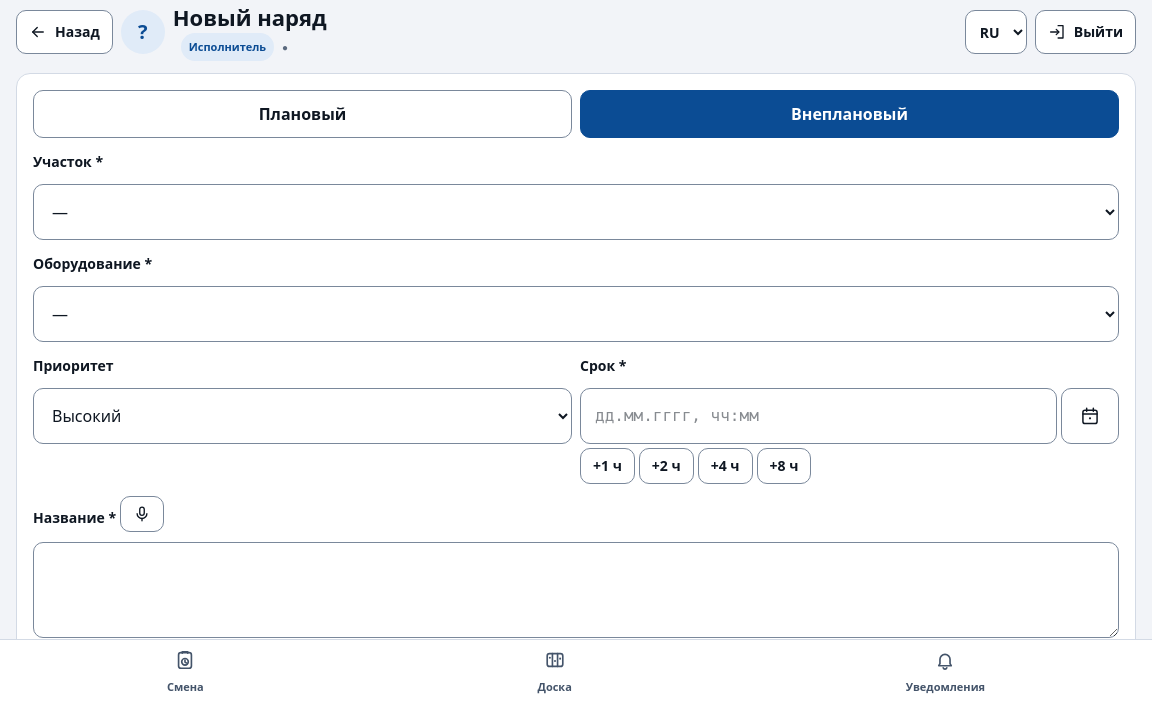
Test: MasterNew AI and photo › suggests assignee and applies it
Step 1. Select "Участок 1" in the dropdown labelled "Участок *" → (576, 212), box [33, 184, 1119, 240]
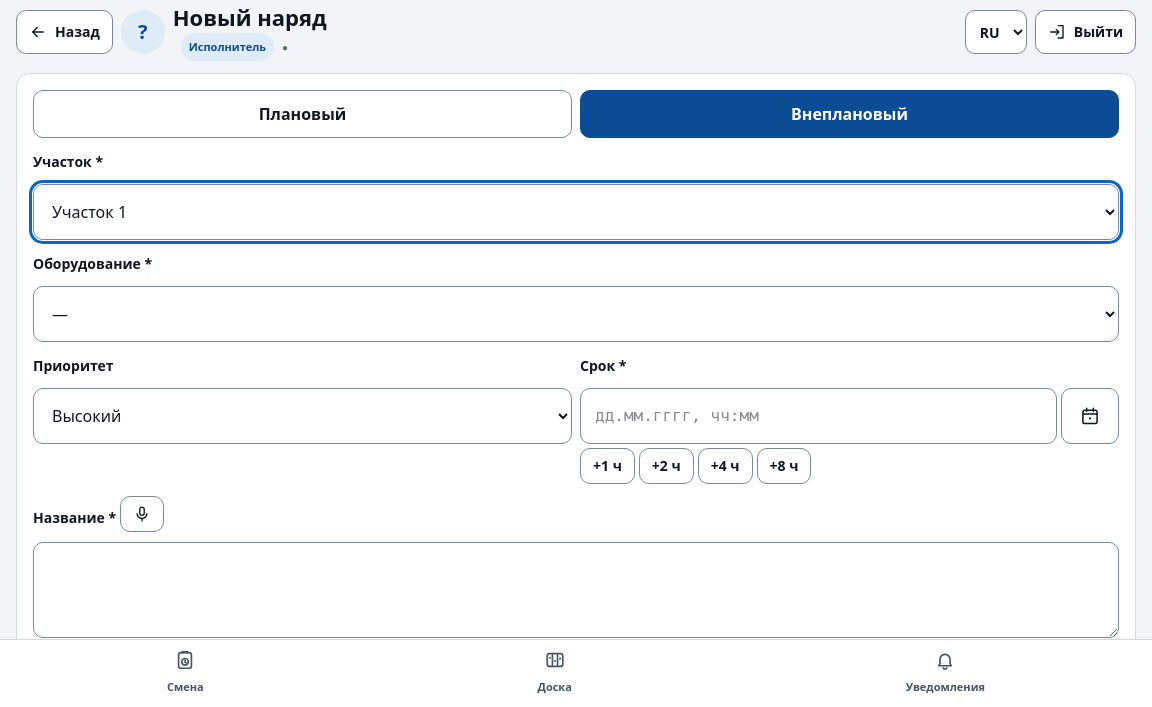
Step 2. Type "Течь масла" into the text box labelled "Название *" → (576, 590), box [33, 542, 1119, 638]
(page scrolled)
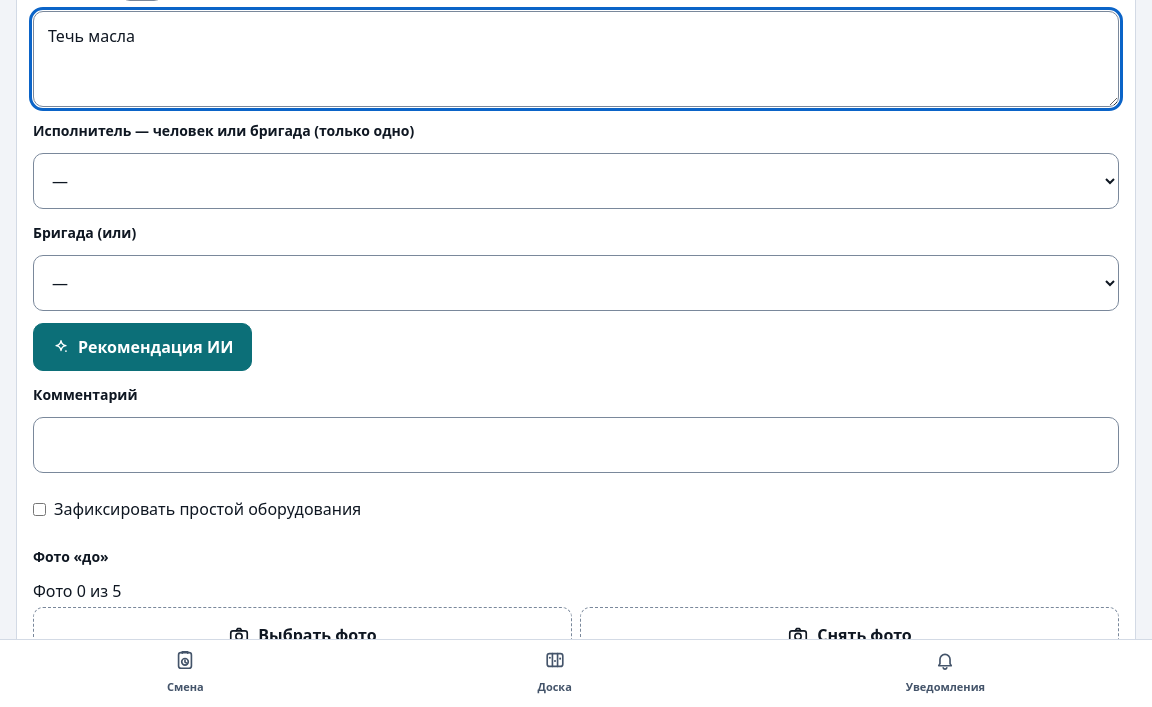
Expected: the button "Рекомендация ИИ" is enabled
Step 3. Click the button "Рекомендация ИИ" → (143, 347), box [33, 323, 252, 371]
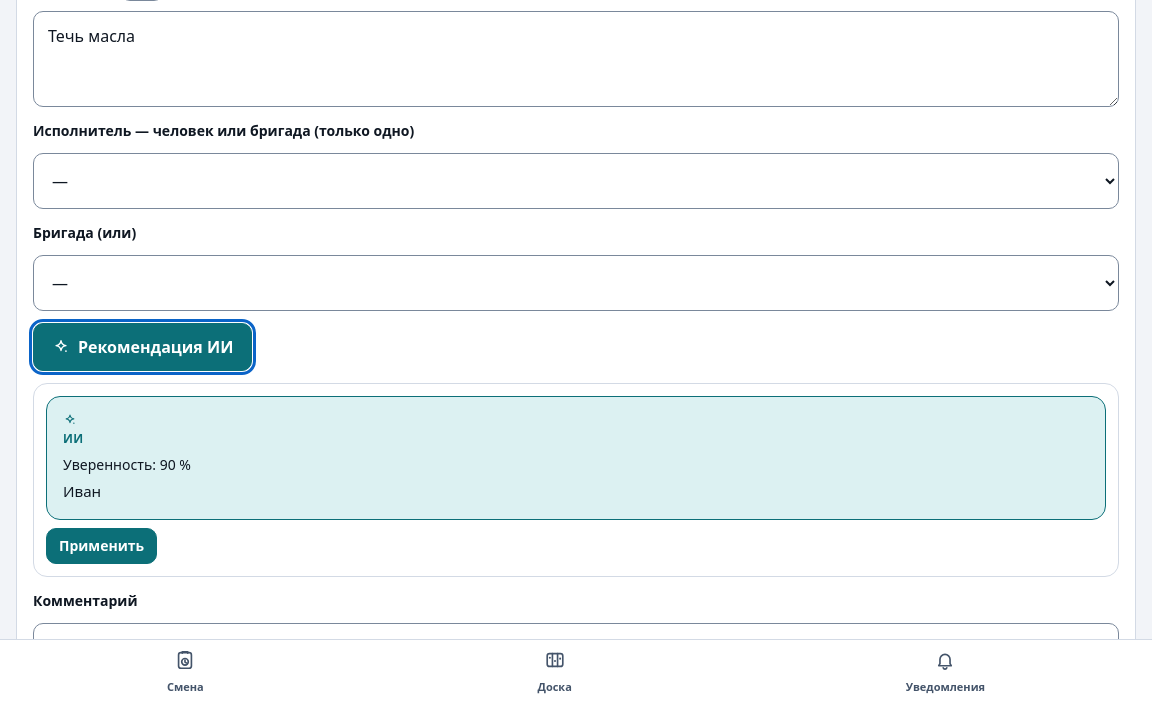
Step 4. Click the button "Применить" → (102, 546), box [46, 528, 157, 564]
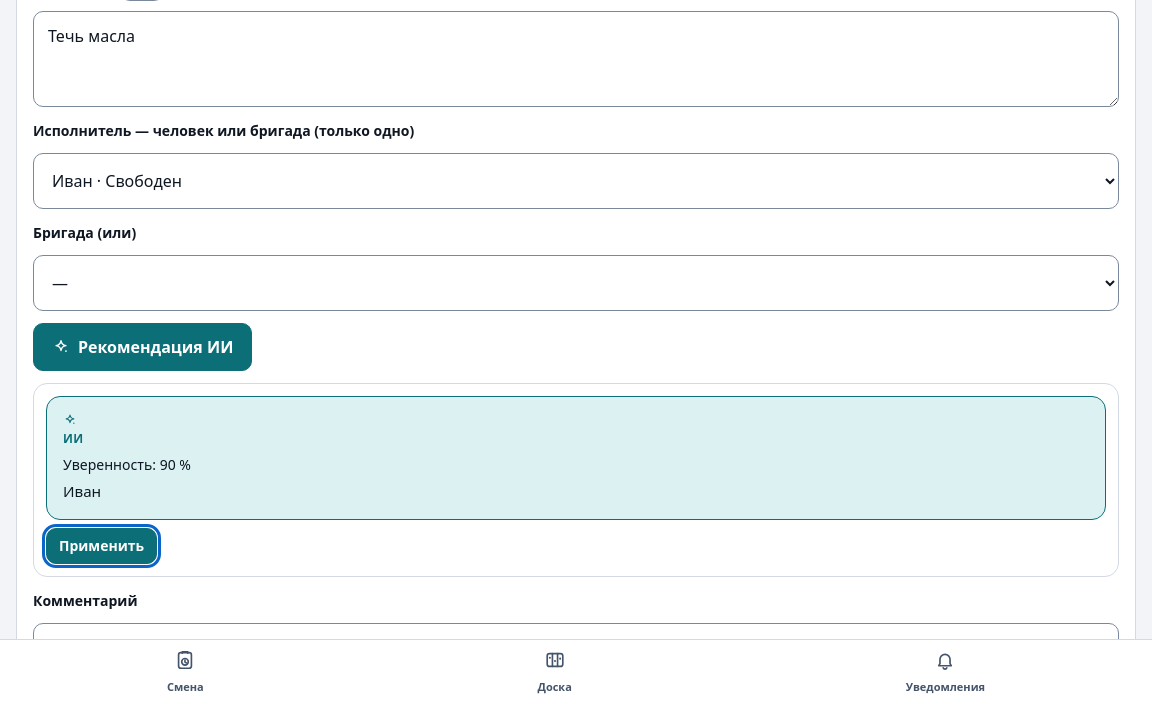
Expected: the dropdown labelled "Исполнитель — человек или бригада (только одно)" shows "Иван · Свободен", [33, 153, 1119, 209]
